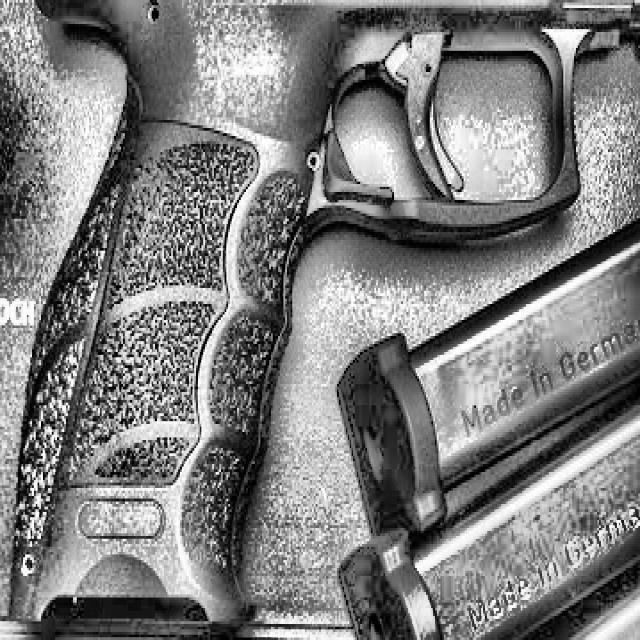Heckler - Koch -H-K-: (26, 0, 640, 629)
